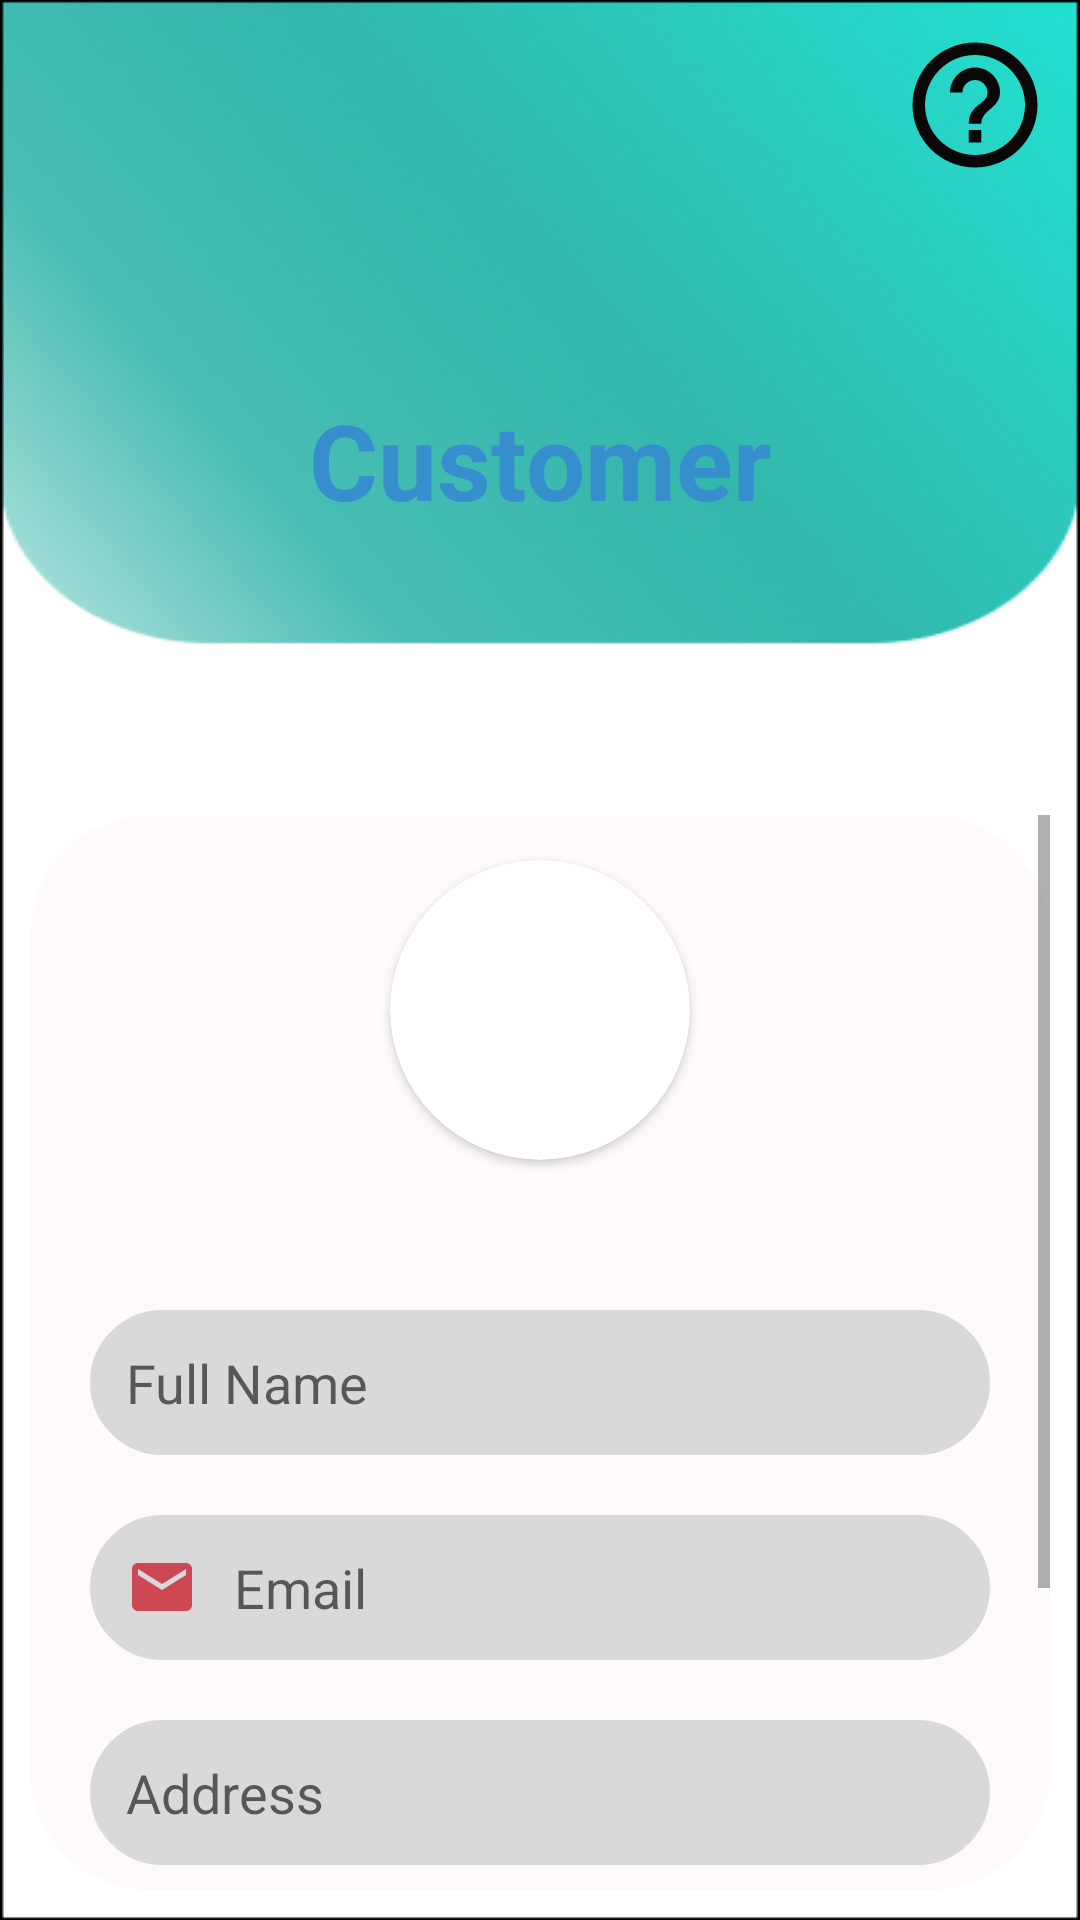

Named icons in this screenshot (1080×1920) and their centers, (x=x, y=y):
Help: (x=975, y=105)
